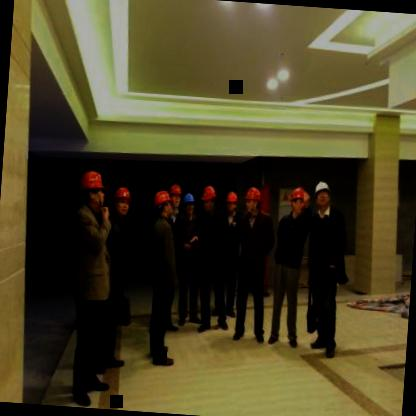helmet: (74, 170, 108, 209), (312, 176, 334, 213), (286, 184, 310, 216), (111, 182, 132, 218), (152, 188, 176, 218), (243, 183, 265, 215), (200, 184, 218, 214), (167, 179, 182, 208), (223, 190, 239, 217), (182, 190, 196, 218)
